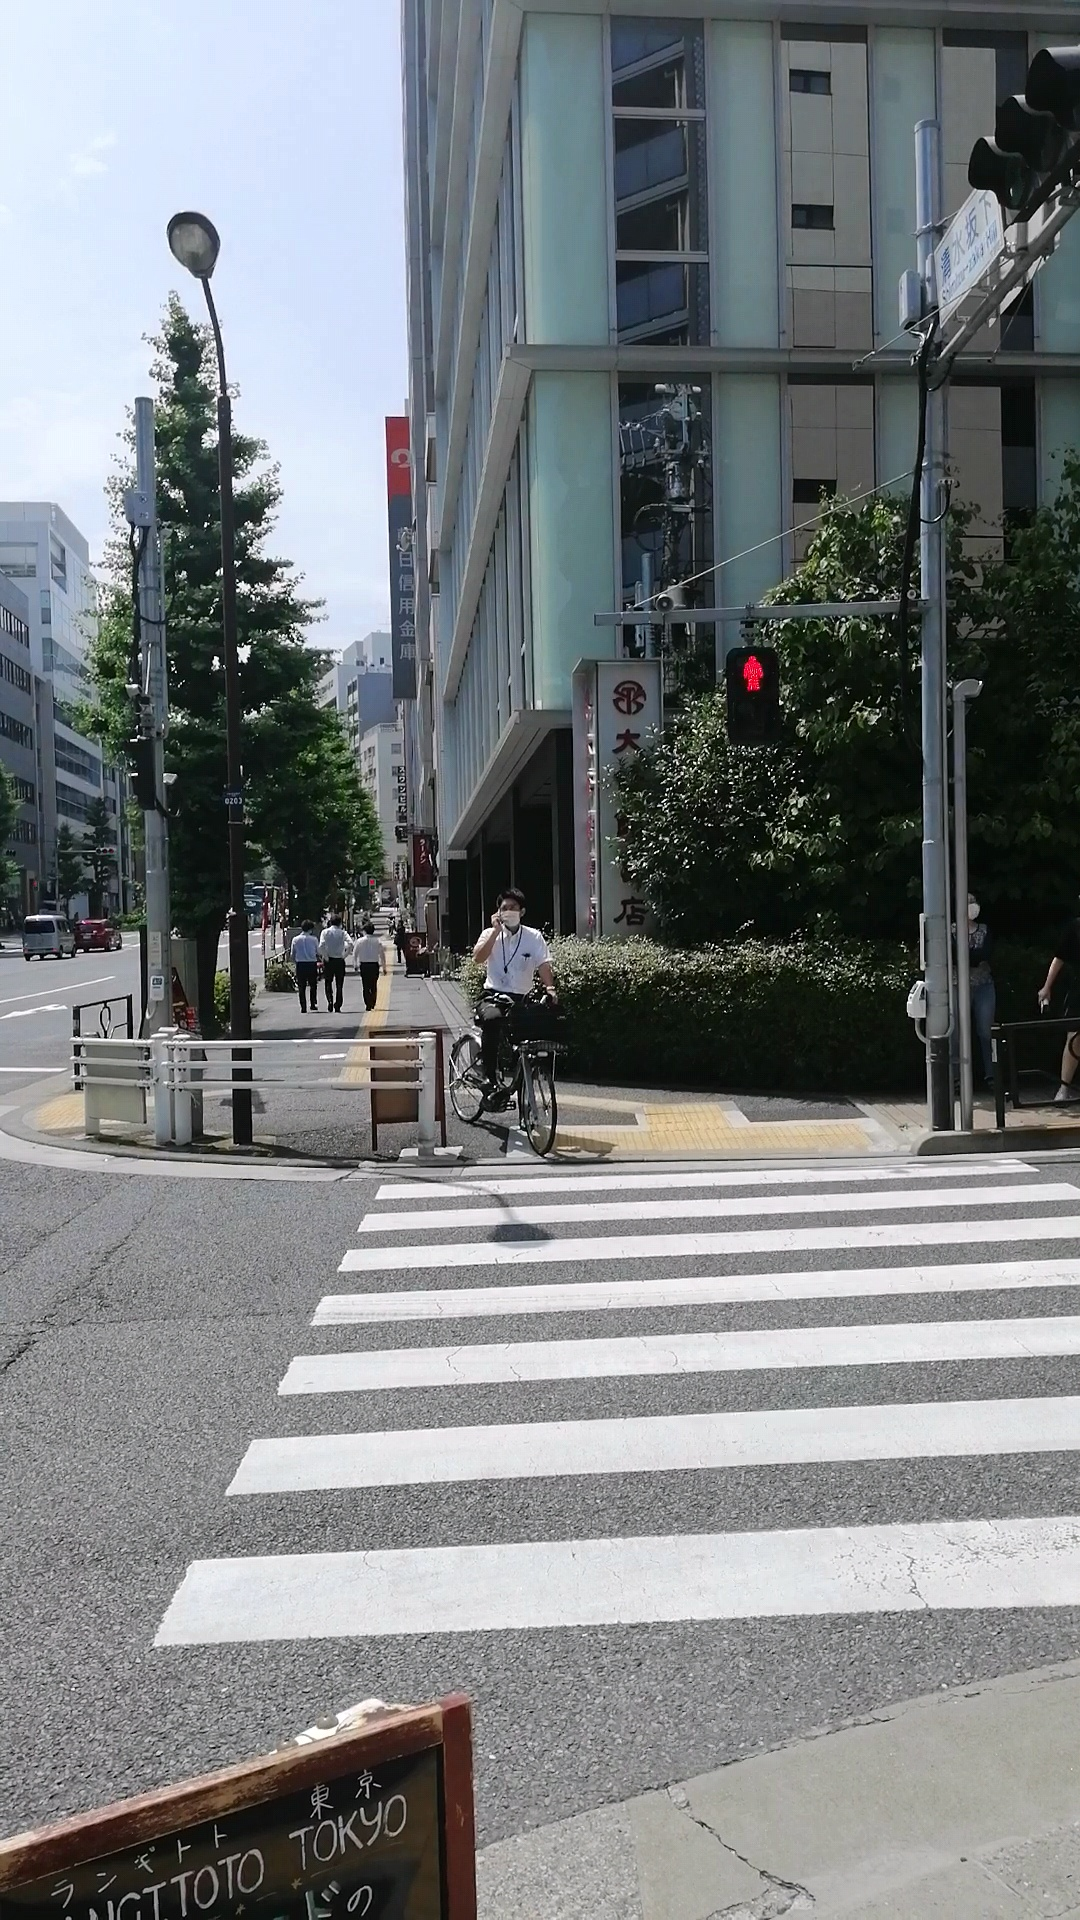red: (724, 646, 778, 745)
